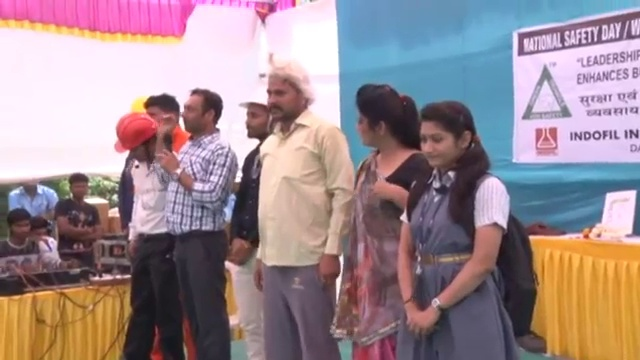helmet: (108, 109, 156, 155), (238, 78, 270, 113)
helmet_off: (415, 98, 482, 187), (352, 80, 418, 166), (262, 65, 316, 127), (179, 89, 223, 142), (138, 97, 177, 137), (3, 207, 35, 245), (62, 174, 86, 206), (30, 215, 51, 245)
helmet_on: (109, 108, 168, 170), (239, 89, 272, 149)
person: (393, 89, 534, 359), (258, 55, 355, 360), (341, 85, 428, 360), (158, 90, 238, 359), (110, 110, 187, 360), (228, 87, 277, 356), (1, 207, 69, 280), (52, 180, 100, 266), (8, 180, 59, 222)
